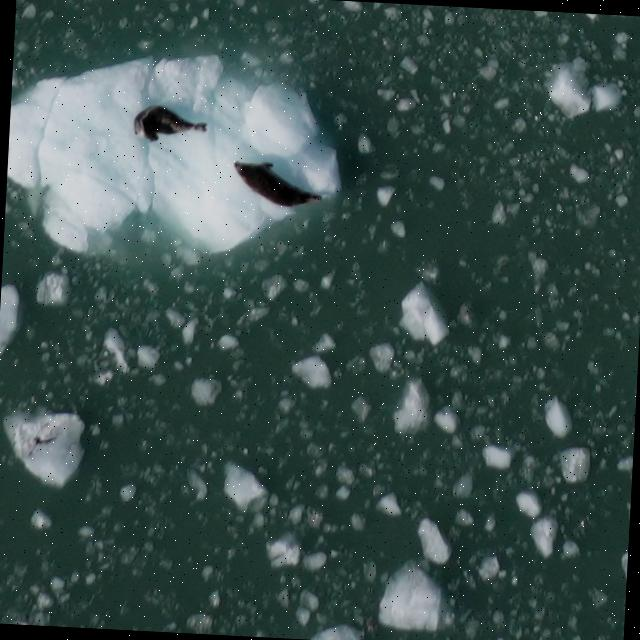seal: (226, 155, 331, 213), (129, 101, 213, 149)
